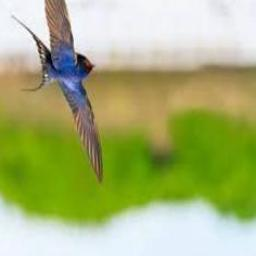Swallow: (11, 0, 102, 187)
